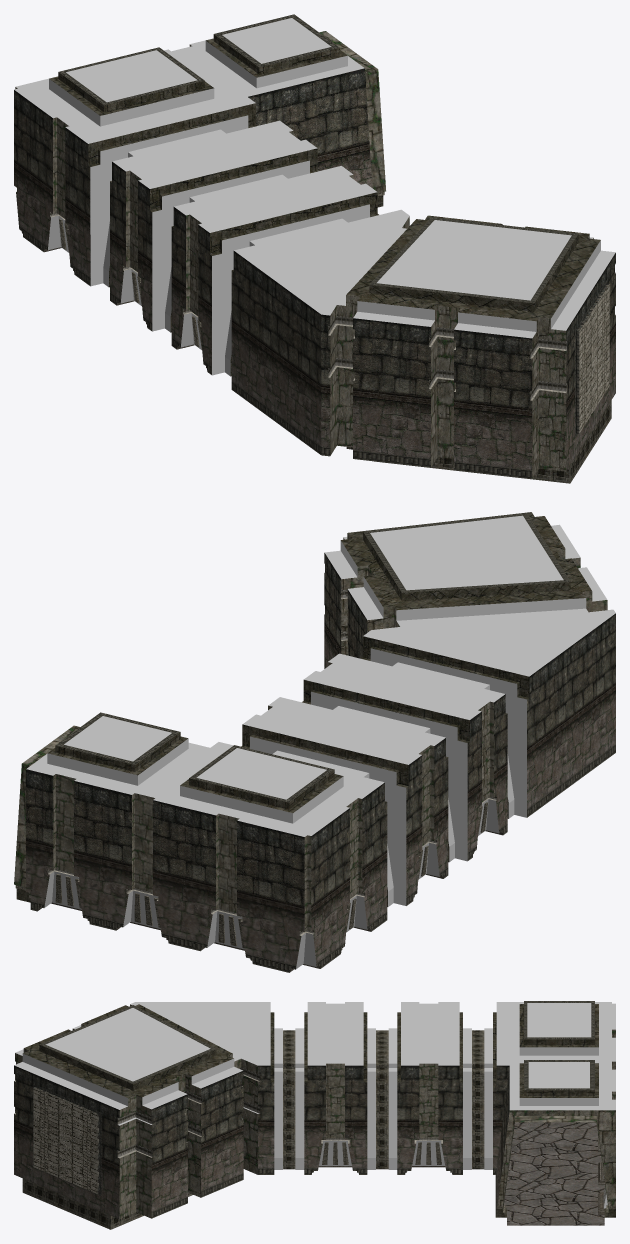
File: thm_yavn_temple_exar_kun_r13_mesh_r13.fbx
3 views of the same model, one above another, from view 1: azimuth 30°, elevation 25°; view 2: azimuth 150°, elevation 25°; view 3: azimuth 270°, elevation 25° (orthographic). The views are drawn at different scales.
Visible parts, largest first — view 1: mesh_node; view 2: mesh_node; view 3: mesh_node.
Part boxes in pixels (bbox=[...]): mesh_node: bbox=[14, 14, 615, 483]; mesh_node: bbox=[14, 512, 615, 972]; mesh_node: bbox=[14, 1001, 615, 1229].
Bounding box in the file's own units: 9 × 5.09 × 20.02.
